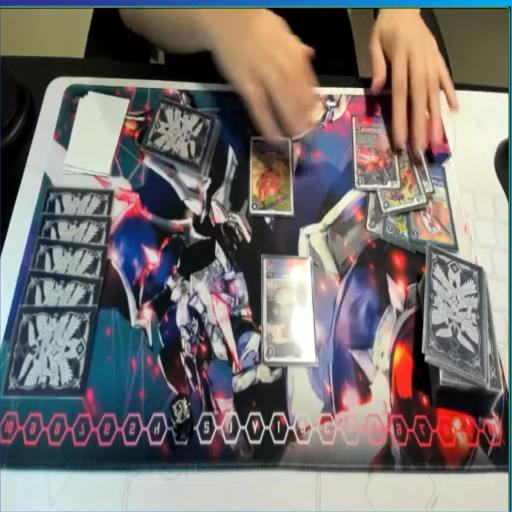card: (261, 256, 316, 366), (405, 154, 456, 244), (249, 130, 294, 216), (380, 134, 425, 213), (352, 112, 398, 188), (364, 183, 390, 237), (383, 207, 412, 242)
